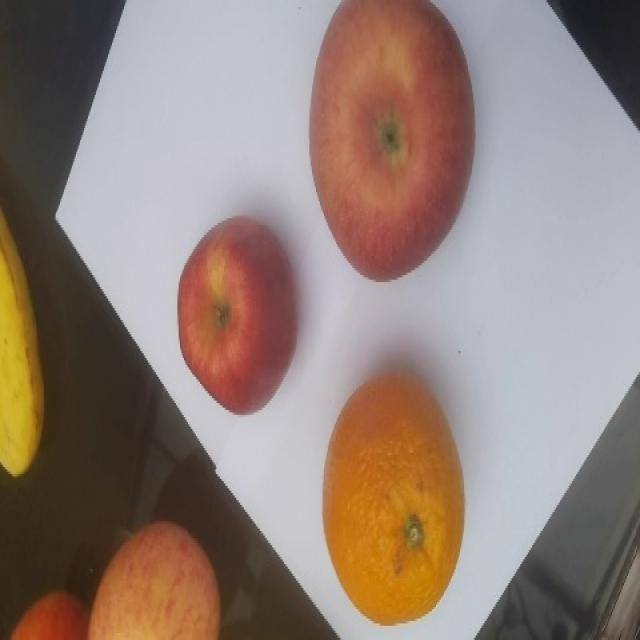Apple: (308, 0, 475, 282), (176, 215, 298, 415), (86, 520, 221, 639), (10, 589, 89, 639)
Banana: (0, 207, 45, 477)
Orange: (321, 372, 465, 626)
